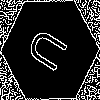U: (25, 25, 76, 79)
